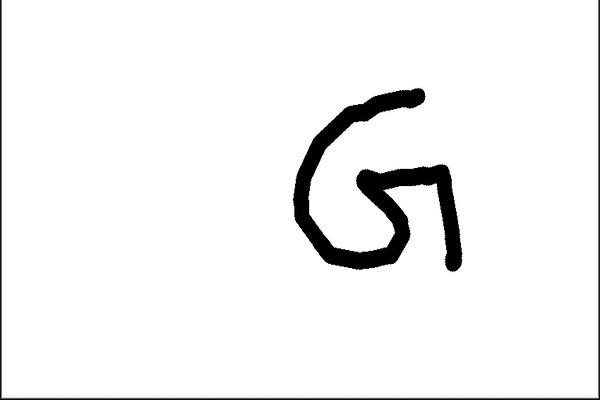G: (285, 83, 467, 277)
